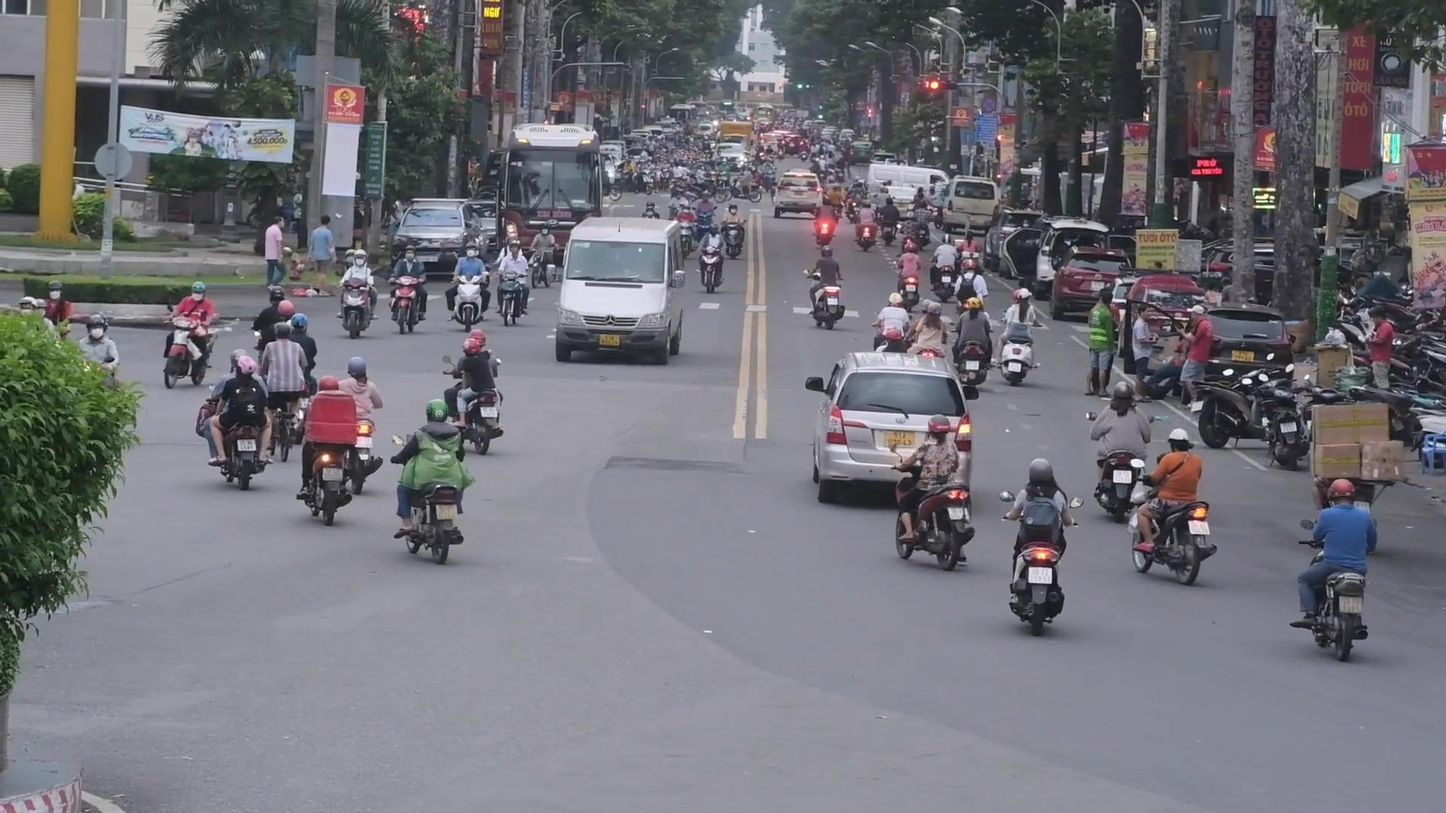driver: (1289, 478, 1377, 662), (999, 458, 1084, 637), (389, 398, 476, 564), (1126, 428, 1217, 586), (888, 414, 975, 572), (196, 347, 274, 490), (1085, 380, 1155, 524), (293, 374, 357, 526), (442, 327, 504, 454), (163, 281, 222, 389), (990, 288, 1042, 386), (445, 242, 491, 333), (949, 297, 996, 386), (336, 248, 379, 339), (387, 245, 428, 335), (803, 245, 845, 330), (496, 240, 530, 326), (928, 233, 959, 303), (698, 222, 728, 294), (893, 242, 922, 313), (529, 223, 556, 289), (720, 202, 747, 260)
helmet: (1328, 479, 1356, 508), (1029, 458, 1053, 488), (927, 415, 951, 440), (233, 355, 257, 379), (426, 399, 449, 423), (1167, 428, 1189, 452), (86, 314, 105, 340), (1113, 380, 1132, 404), (347, 356, 366, 379), (278, 300, 295, 320), (463, 338, 480, 356), (291, 314, 308, 332), (192, 281, 206, 302), (269, 286, 284, 305), (48, 281, 63, 300), (353, 249, 367, 267), (927, 302, 942, 318), (404, 244, 417, 262), (465, 242, 477, 259), (968, 297, 980, 311), (821, 245, 833, 258)
no-helmet: (274, 322, 290, 340), (1017, 288, 1032, 303)
